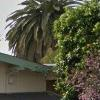Palm tree: (8, 1, 61, 64)
